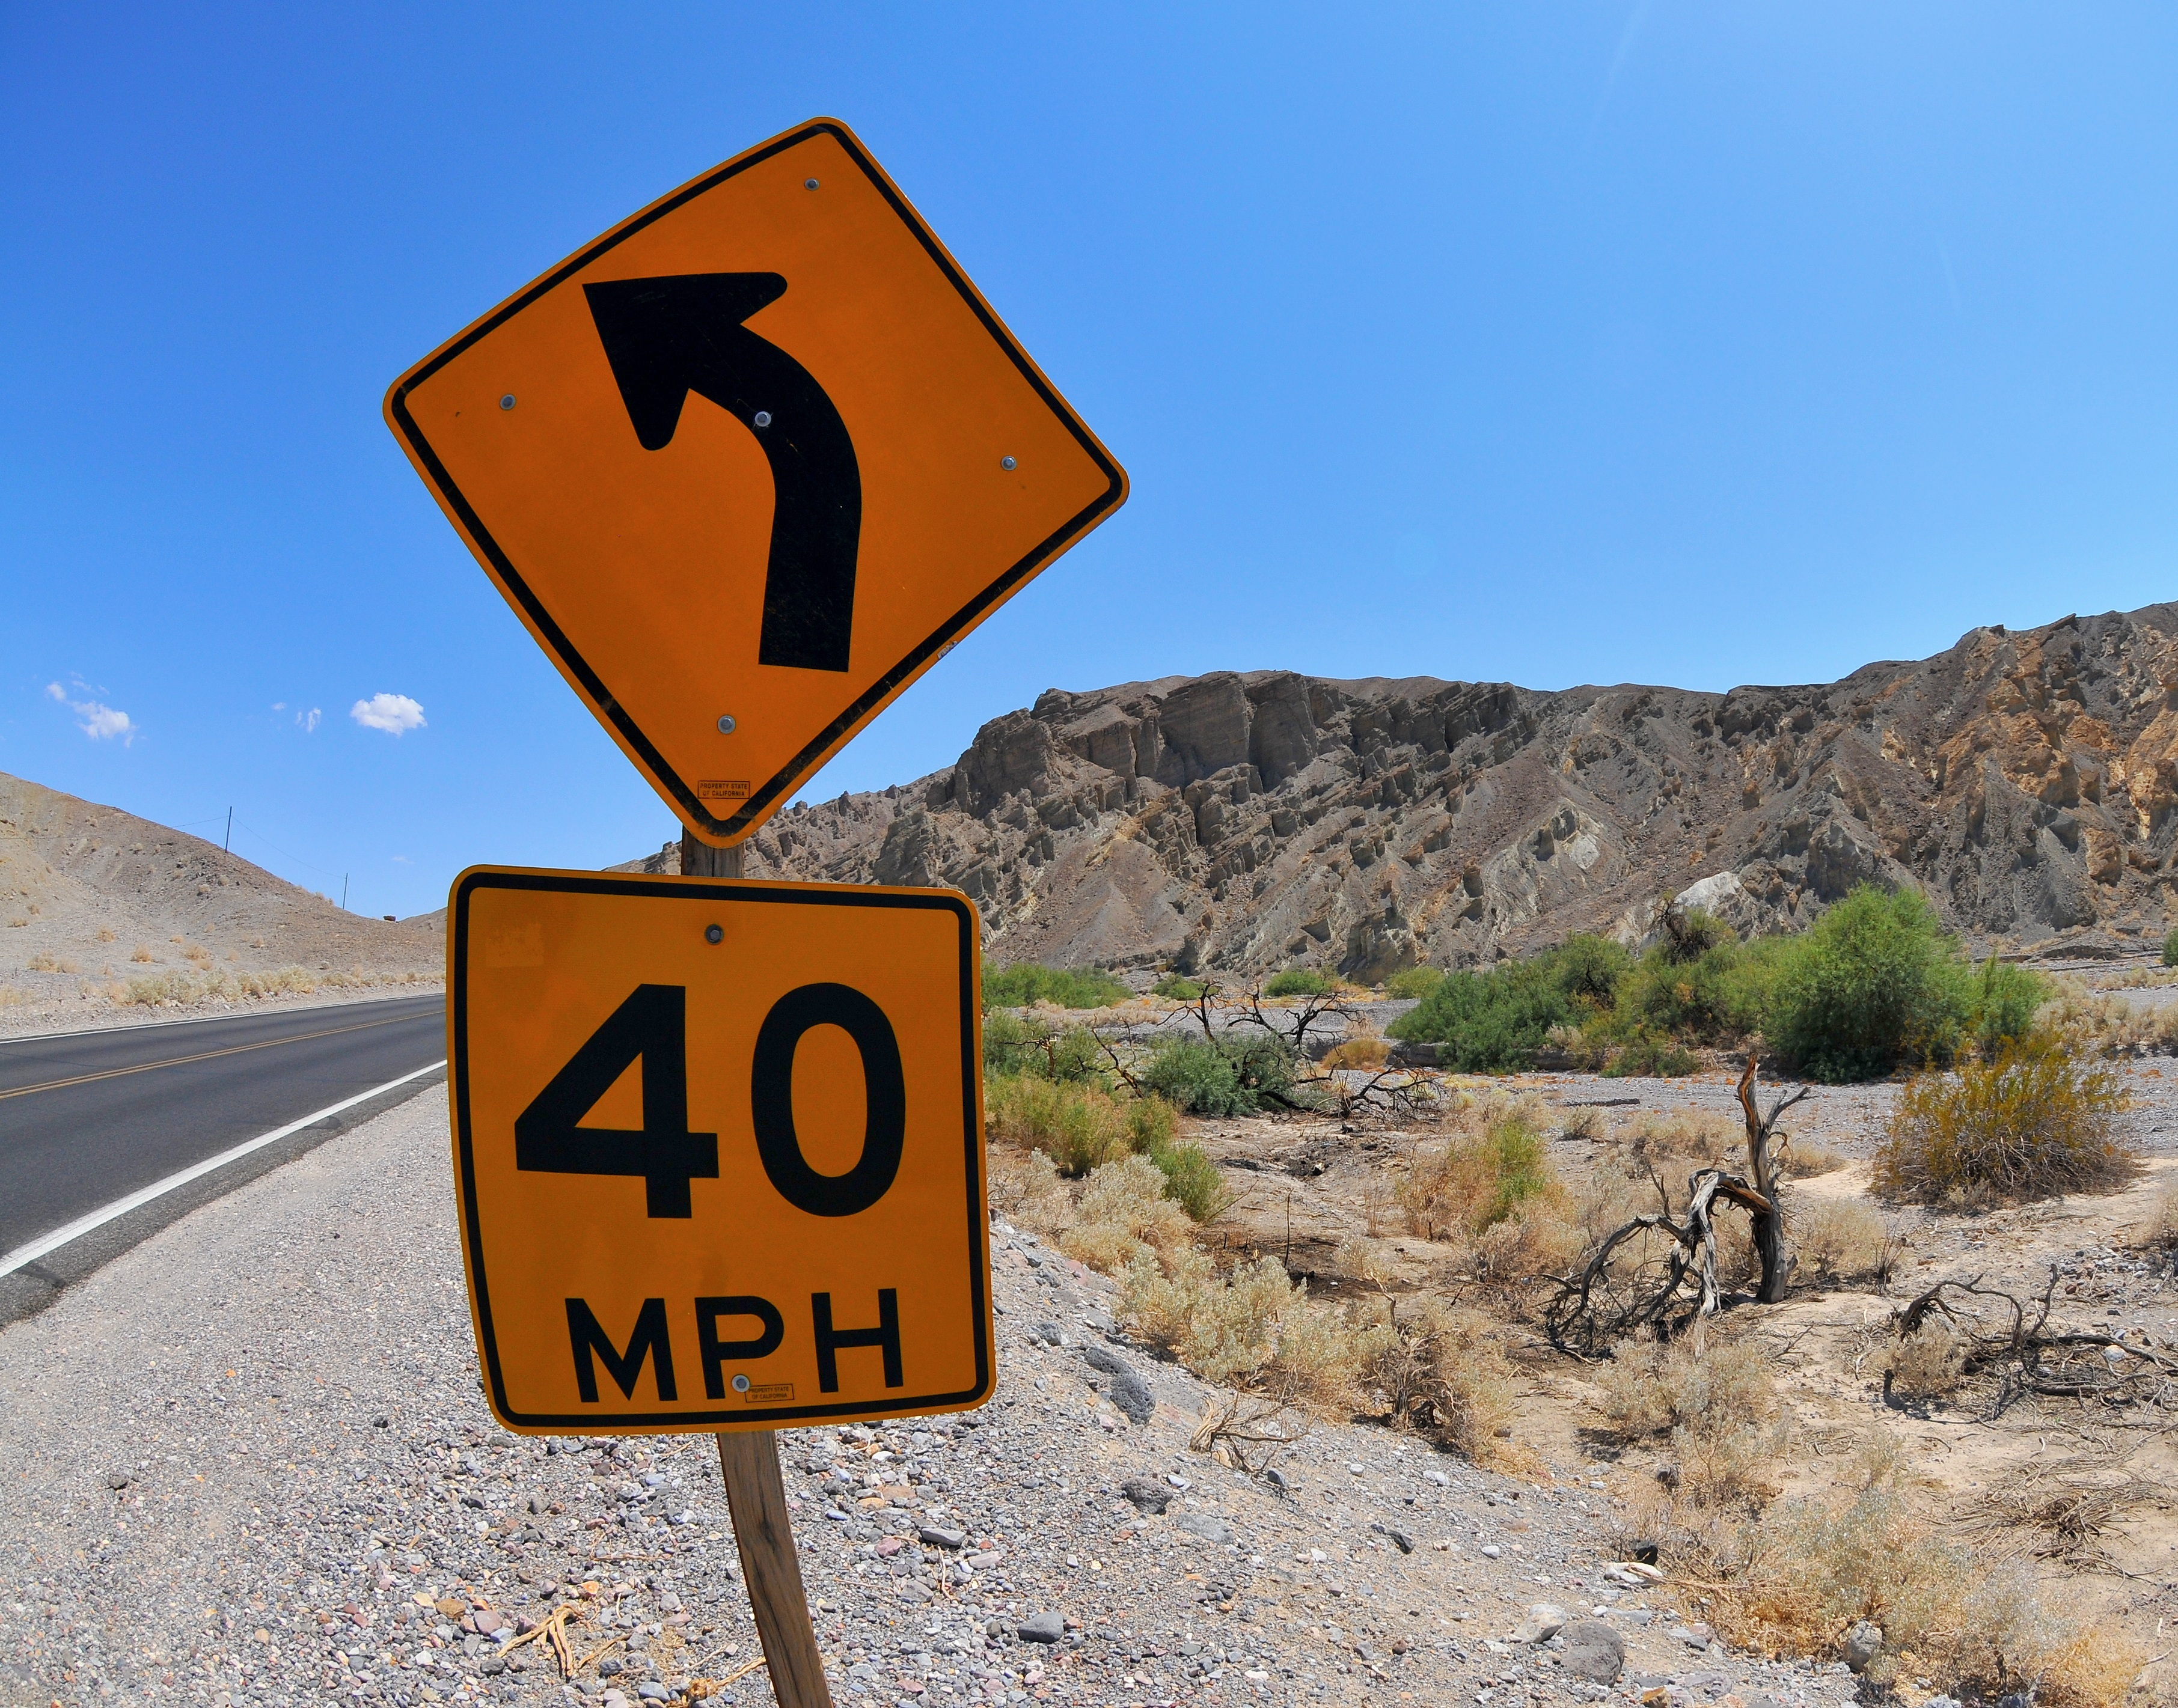speed limit: (405, 831, 1052, 1487)
